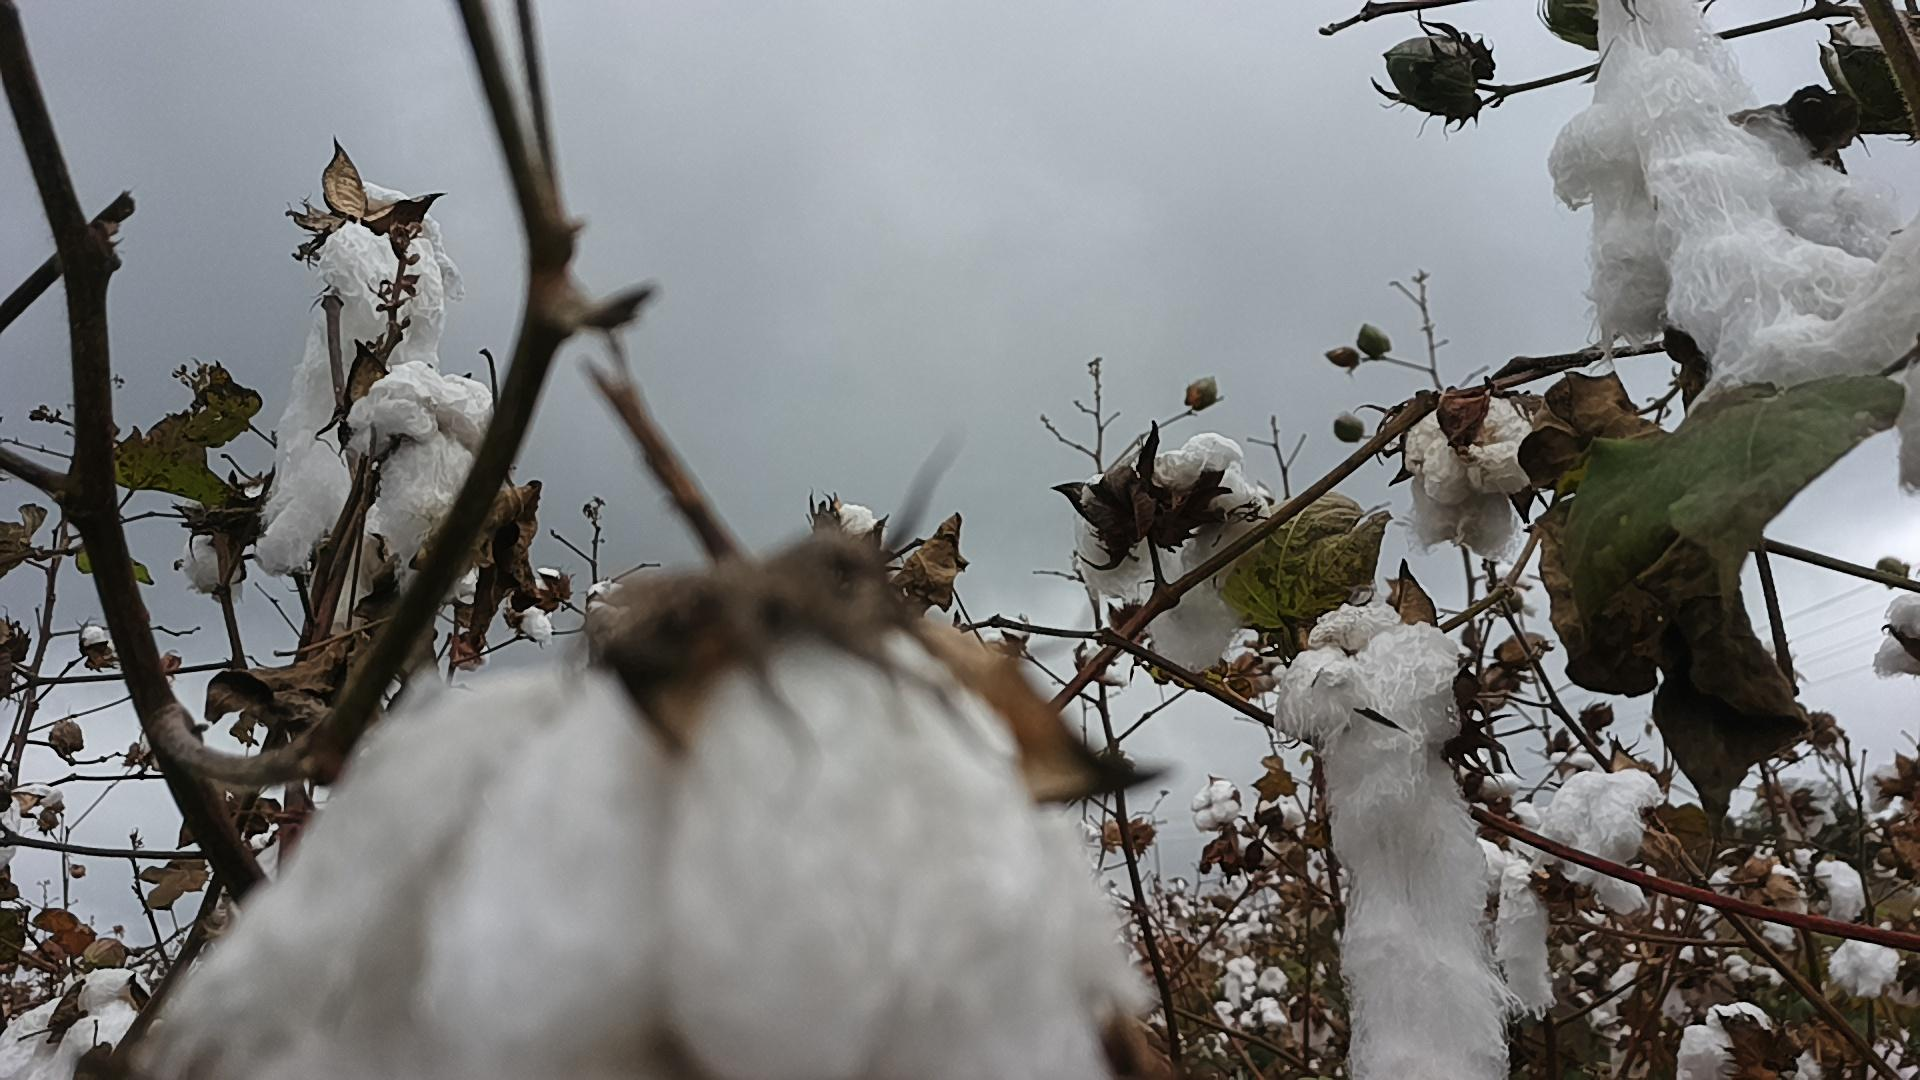cotton_ready: (138, 618, 1158, 1080), (1551, 0, 1894, 396), (1270, 608, 1509, 1080), (260, 186, 468, 578), (345, 360, 496, 560), (1073, 435, 1236, 597), (1840, 218, 1920, 489), (1151, 501, 1269, 673), (1398, 398, 1535, 545), (1544, 766, 1663, 911), (0, 965, 141, 1080), (1484, 845, 1553, 1017), (1708, 862, 1808, 948), (1676, 1004, 1778, 1080), (1870, 599, 1920, 675), (822, 501, 878, 551)
